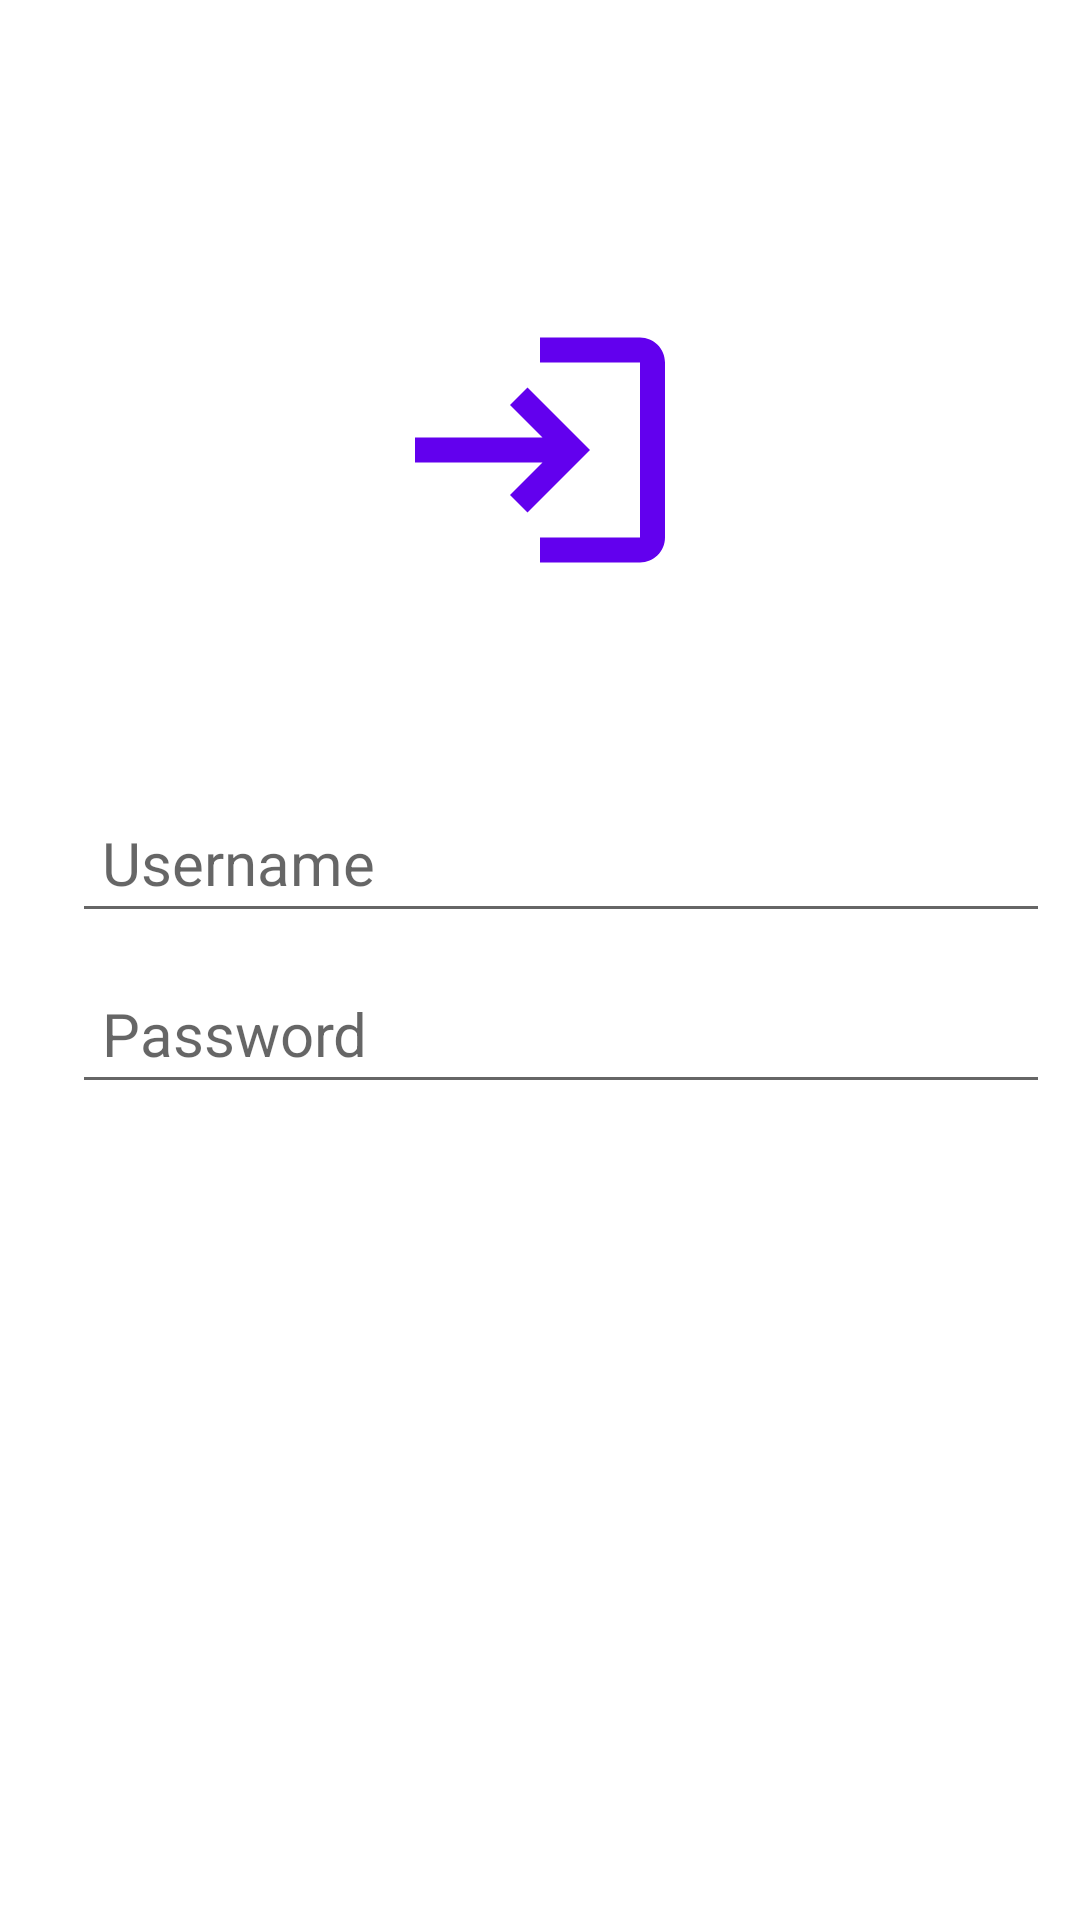

Point at icon controls on the screen. Image size 1080 x 1920, points as (x=x, y=y).
login: (x=540, y=450)
